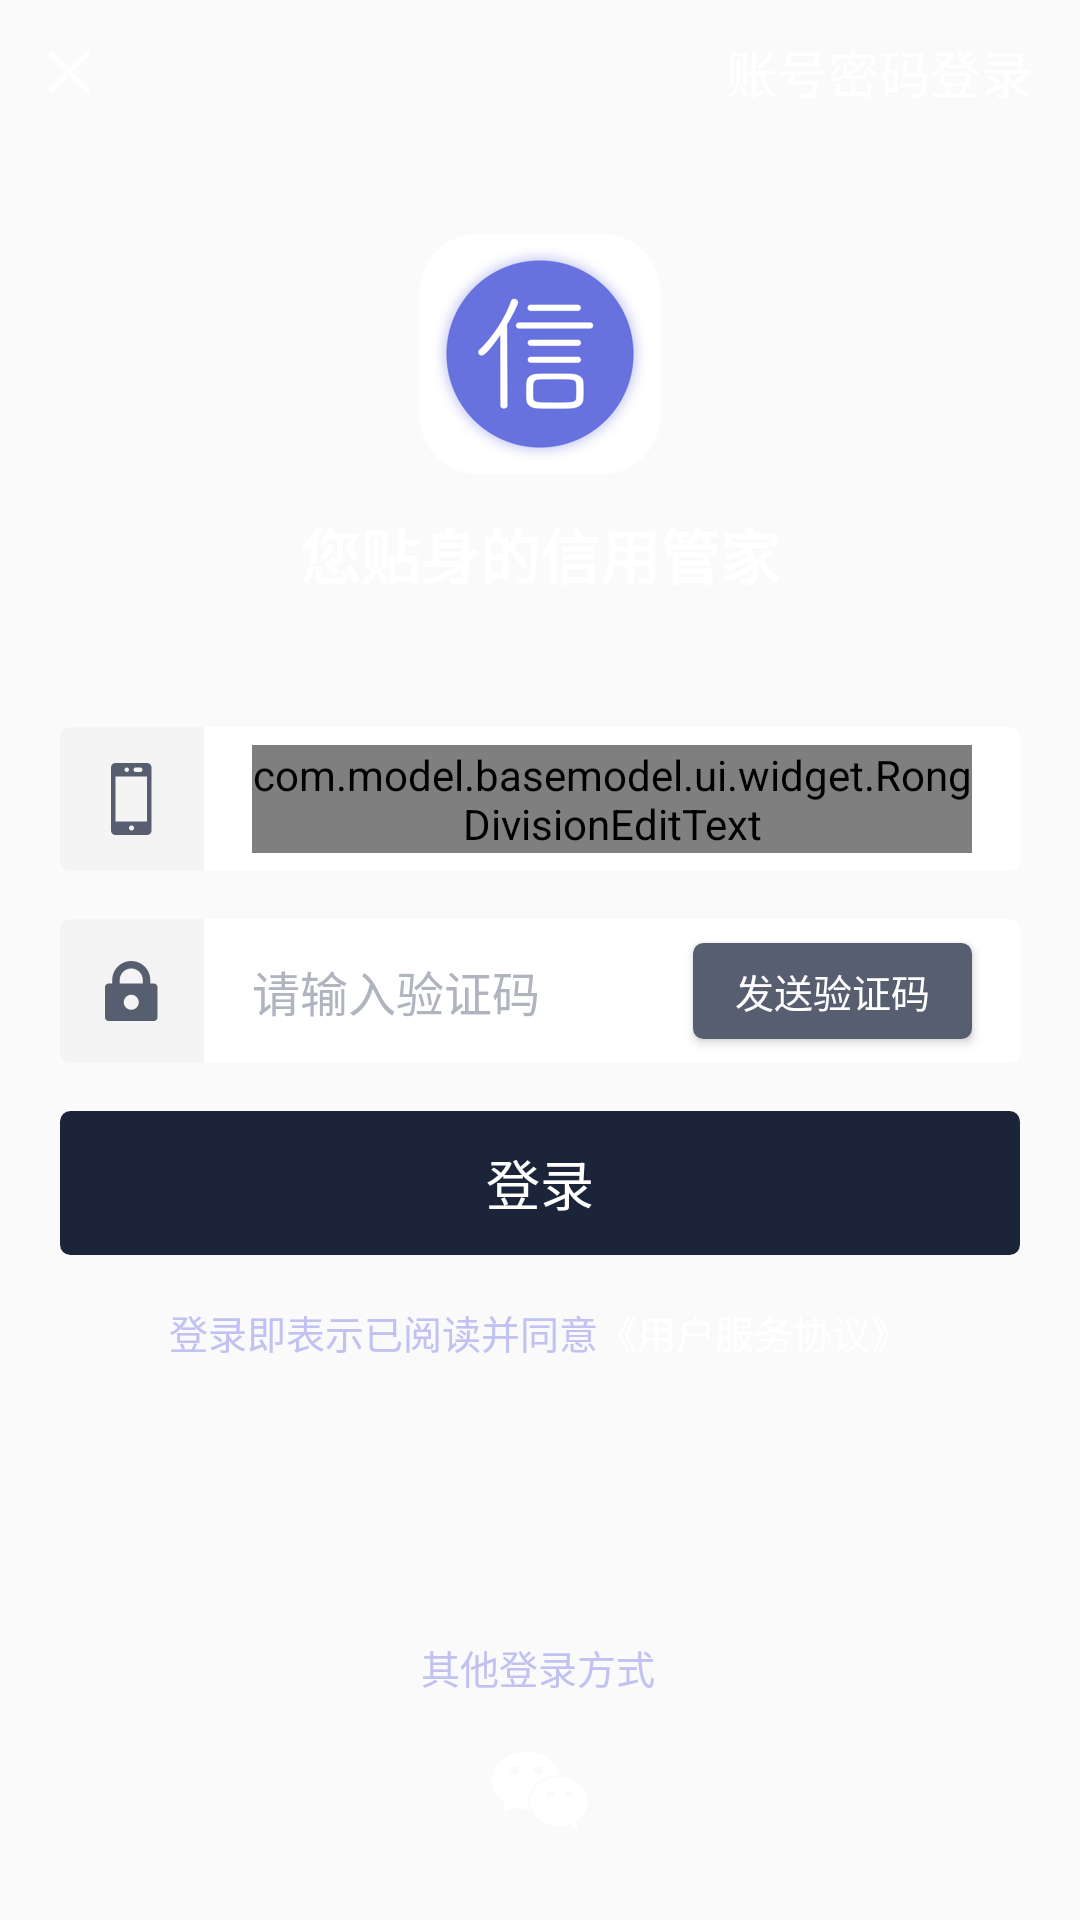

Where icons sit on this 1080×1920 app screen, as (x1, y1, x2, y2):
app: (443, 257, 637, 451)
mobile: (111, 763, 152, 835)
password: (105, 961, 158, 1021)
